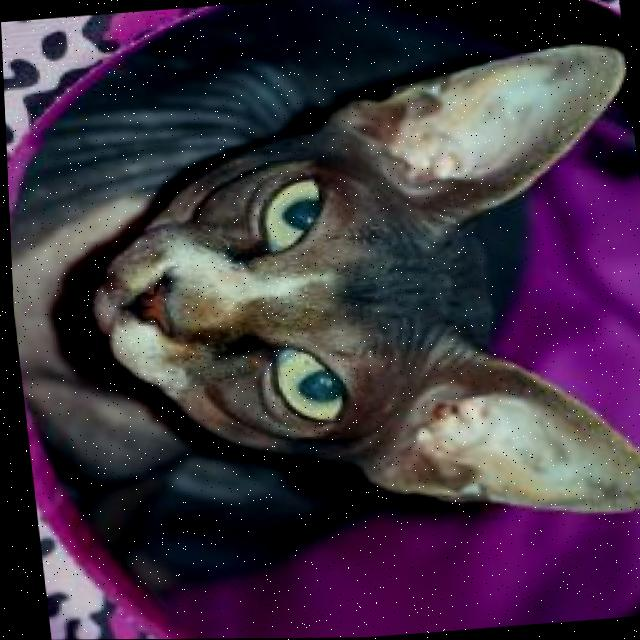Sphynx: (0, 0, 640, 592)
